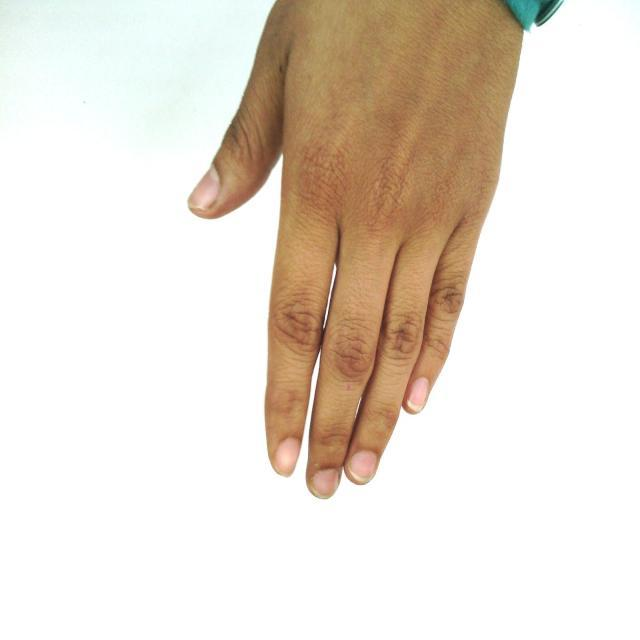Fingernail: (187, 166, 221, 208), (273, 438, 301, 478), (310, 469, 340, 499), (349, 451, 377, 483), (407, 377, 429, 413)
